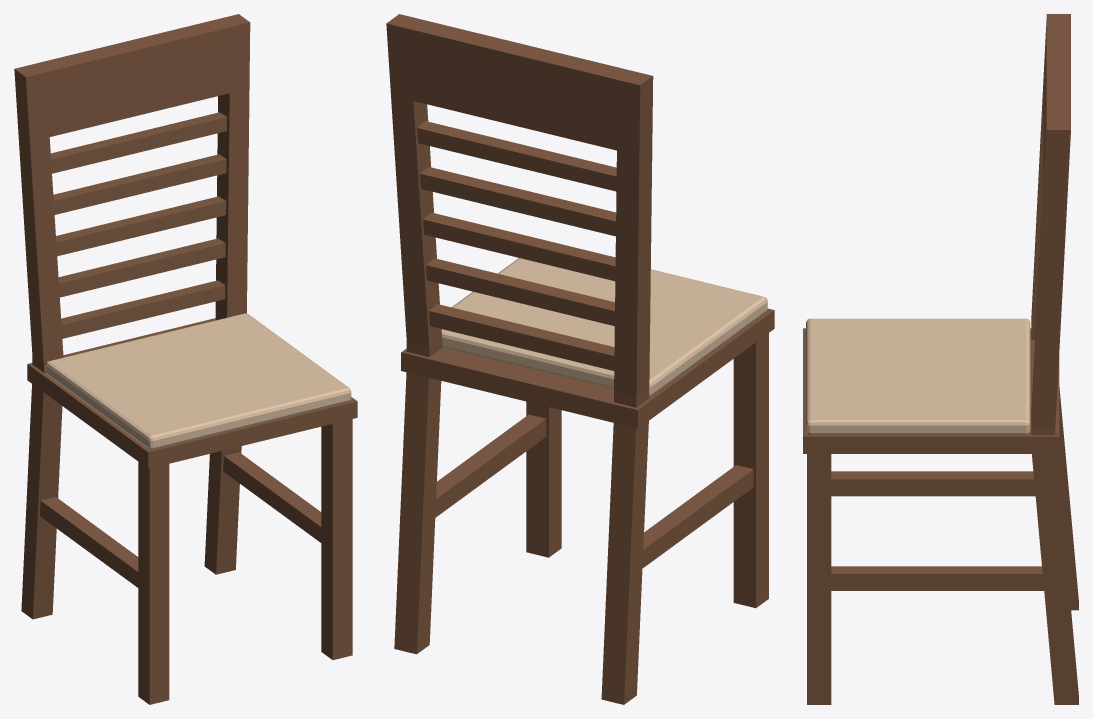
The model's file is Chair_04_C3.fbx.
The picture shows the model from 3 angles, left to right: view 1: azimuth 30°, elevation 25°; view 2: azimuth 150°, elevation 25°; view 3: azimuth 270°, elevation 25°; orthographic projection. The views are drawn at different scales.
Visible parts, largest first — view 1: Chair_04_C3; view 2: Chair_04_C3; view 3: Chair_04_C3.
Part boxes in pixels (x1,y1,x2,y2): Chair_04_C3: (14,14,357,704); Chair_04_C3: (386,14,774,704); Chair_04_C3: (803,14,1078,704).
Size of the model in its own units: 42.89 by 100 by 43.04.
